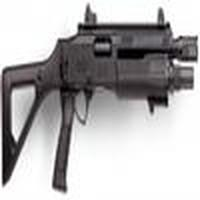gun: (1, 13, 197, 186)
